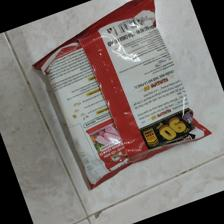Kokomi: (31, 2, 215, 191)
